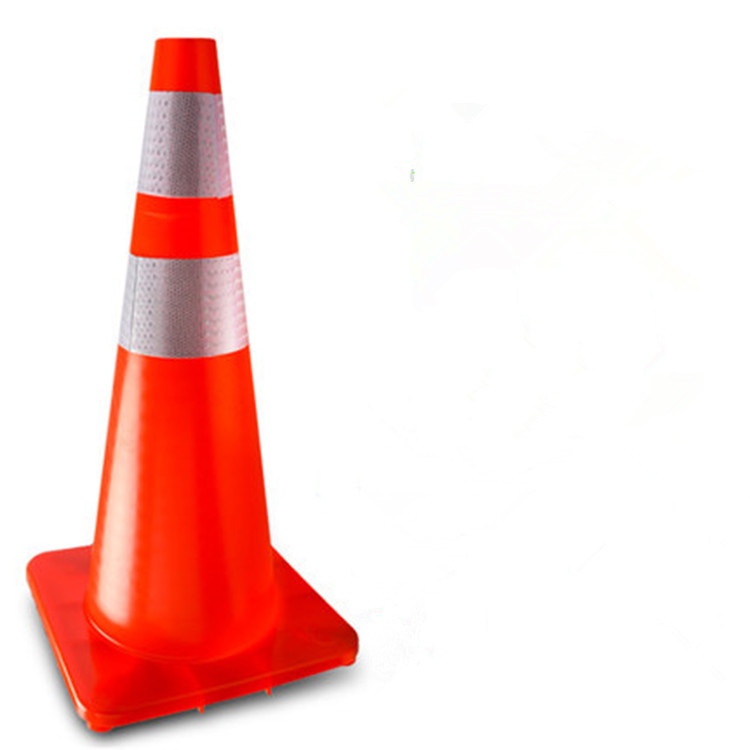traffic_cone: (24, 29, 389, 735)
